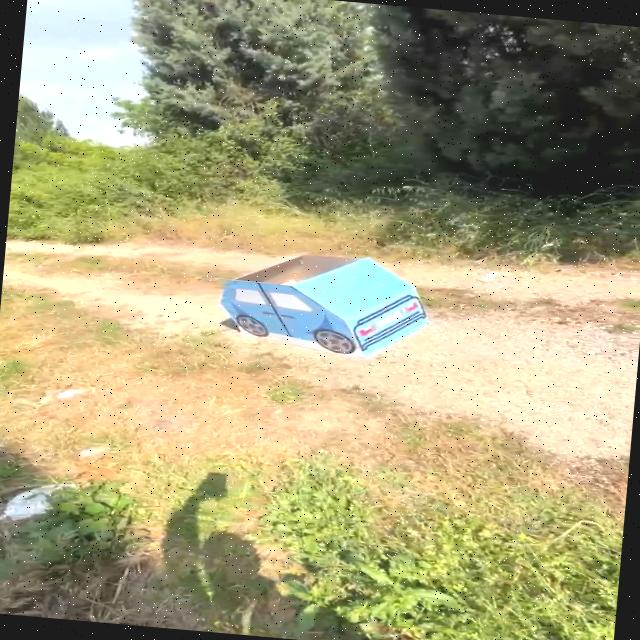blue_car: (186, 235, 452, 371)
